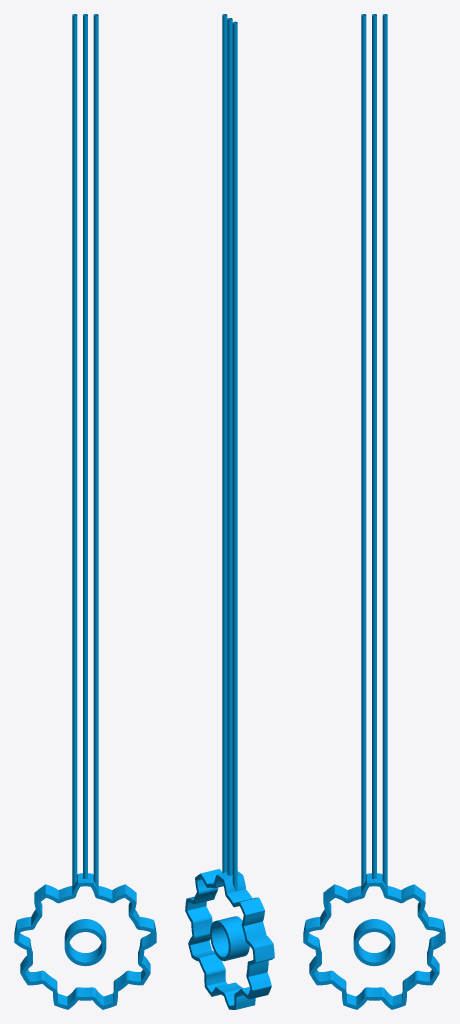
Rendered from cutter4_gear.fbx.
The picture shows the model from 3 angles, left to right: view 1: azimuth 90°, elevation 25°; view 2: azimuth 210°, elevation 25°; view 3: azimuth 270°, elevation 25°; orthographic projection.
Visible parts, largest first — view 1: Cutter4_Gear; view 2: Cutter4_Gear; view 3: Cutter4_Gear.
Part boxes in pixels (x1,y1,x2,y2): Cutter4_Gear: (14,14,156,1009); Cutter4_Gear: (185,14,274,1009); Cutter4_Gear: (303,14,445,1009).
Size of the model in its own units: 16.87 by 823 by 107.
